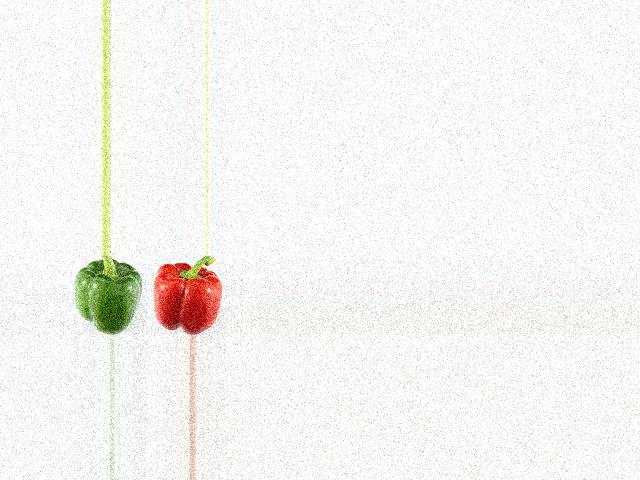bell_pepper: (72, 257, 144, 331)
